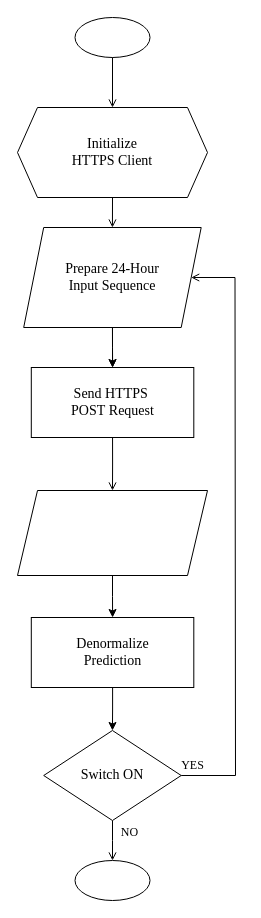
This 261x918 diagram has some shape labels left out. The centre of each missing label's shape, as x and y in pixels:
"END" goes at point 112,880.
"Receive API Response" goes at point 112,533.
"START" goes at point 112,37.
